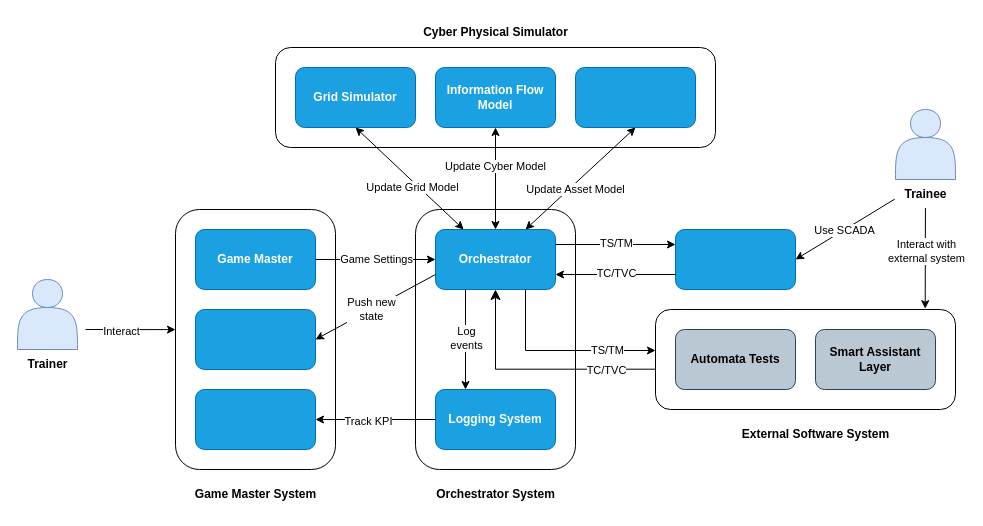
The diagram is 983 pixels wide and 526 high, and some of its shapes have lost their labels. The box of each missing label's shape, as (x1, y1, x2, y2) in pixels:
Asset Simulator: (574, 66, 696, 128)
KPI: (194, 388, 316, 450)
SCADA: (674, 228, 796, 290)
State View: (194, 308, 316, 370)
